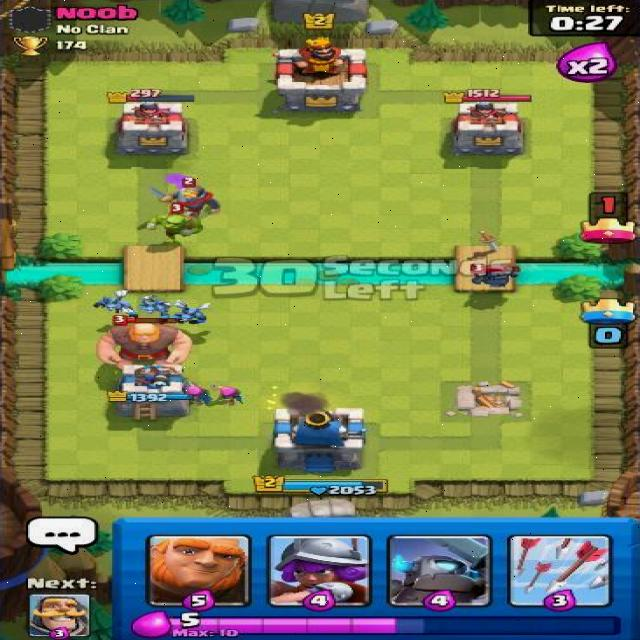Enemy-Brawler: (145, 202, 206, 245)
Enemy-Giant: (96, 313, 198, 372)
Enemy-Knight: (145, 176, 226, 219)
Enemy-MiniPEKKA: (467, 261, 524, 289)
Player-Archer: (206, 383, 250, 409), (177, 379, 215, 408)
Player-Minion: (168, 297, 213, 326), (91, 288, 136, 315), (136, 293, 175, 320)
